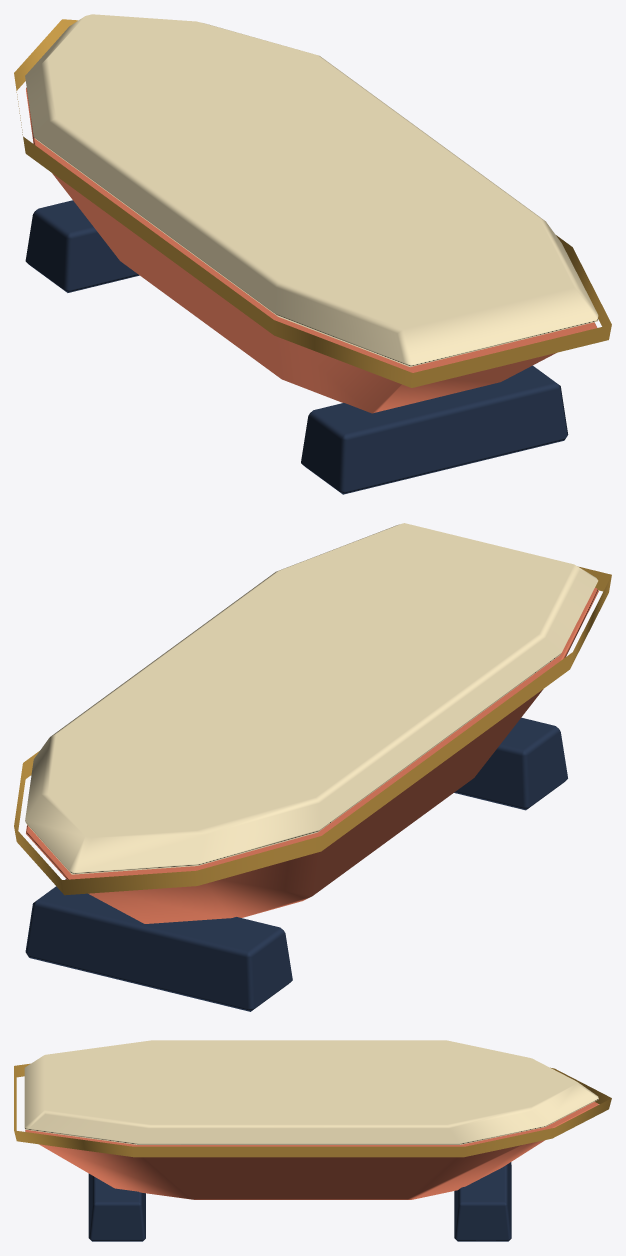
The model's file is lifeboat.glb.
3 renders of one model, top to bottom at view 1: azimuth 30°, elevation 25°; view 2: azimuth 150°, elevation 25°; view 3: azimuth 270°, elevation 25°, orthographic. The views are drawn at different scales.
Visible parts, largest first — view 1: lifeboat; view 2: lifeboat; view 3: lifeboat.
Boxes of the visible parts, x1=… form: lifeboat: x1=14, y1=14, x2=611, y2=494; lifeboat: x1=14, y1=523, x2=611, y2=1011; lifeboat: x1=14, y1=1040, x2=611, y2=1241.
Bounding box in the file's own units: 1.85 × 1.1 × 4.84.
